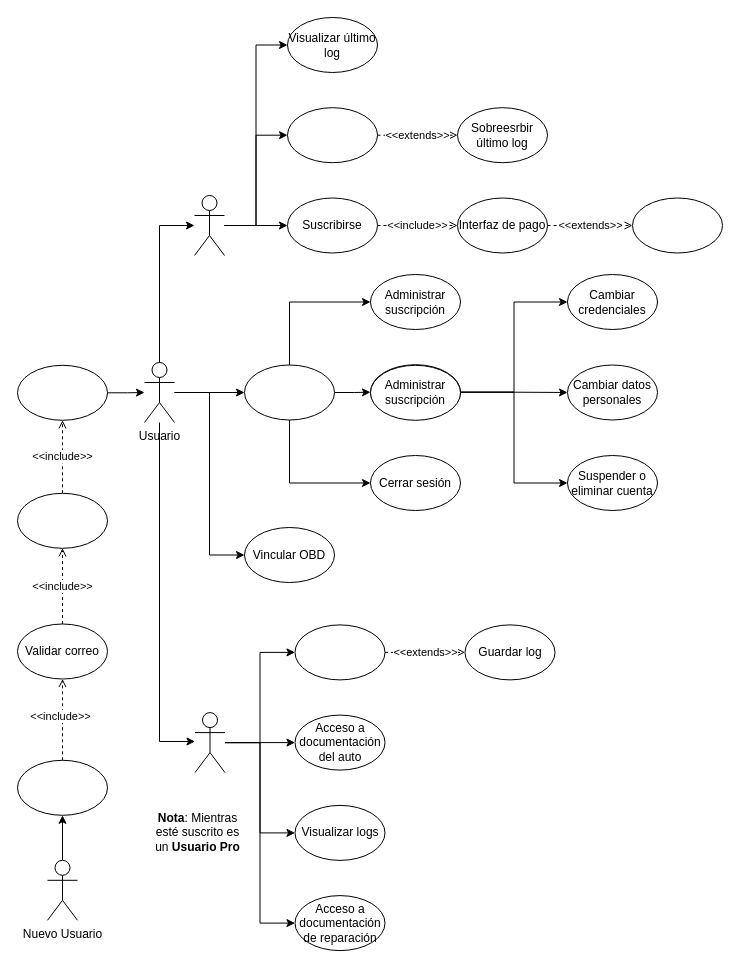
This 740x969 diagram has some shape labels left out. Each missing label, with the centre of its shape:
"Crear cuenta" belongs at (x=62, y=787).
"Escaneo avanzado de auto" belongs at (x=339, y=652).
"Escaneo simple de auto" belongs at (x=332, y=135).
"Iniciar sesión" belongs at (x=62, y=520).
"Panel de Usuario" belongs at (x=289, y=392).
"Transacción mediante un PSP" belongs at (x=677, y=225).
"Usuario Free" belongs at (x=209, y=225).
"Usuario Pro" belongs at (x=209, y=742).
"Validar credenciales" belongs at (x=62, y=392).
